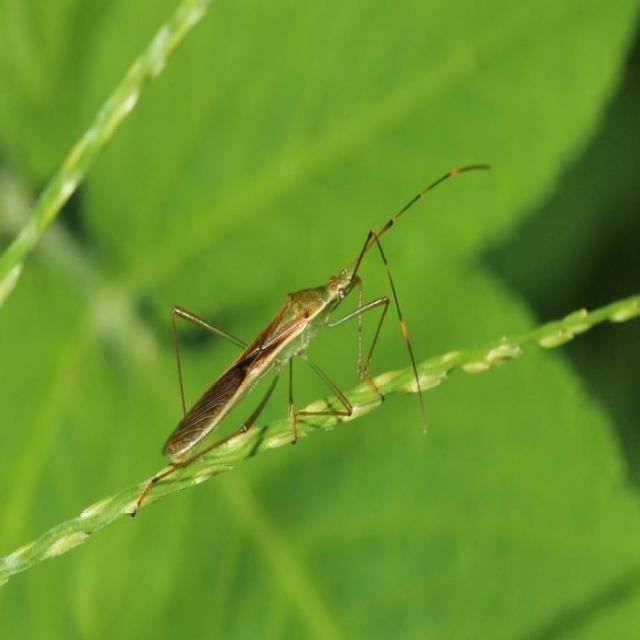walang sangit pada tanaman padi: (126, 160, 491, 518)
